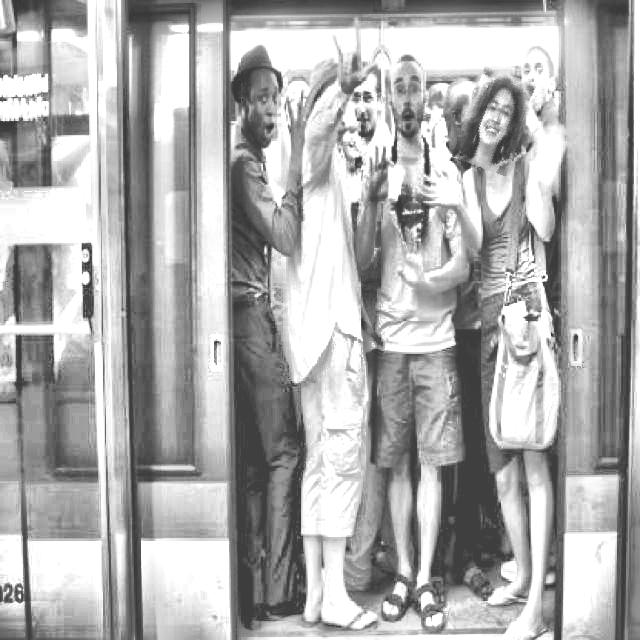happy: (460, 70, 532, 173)
